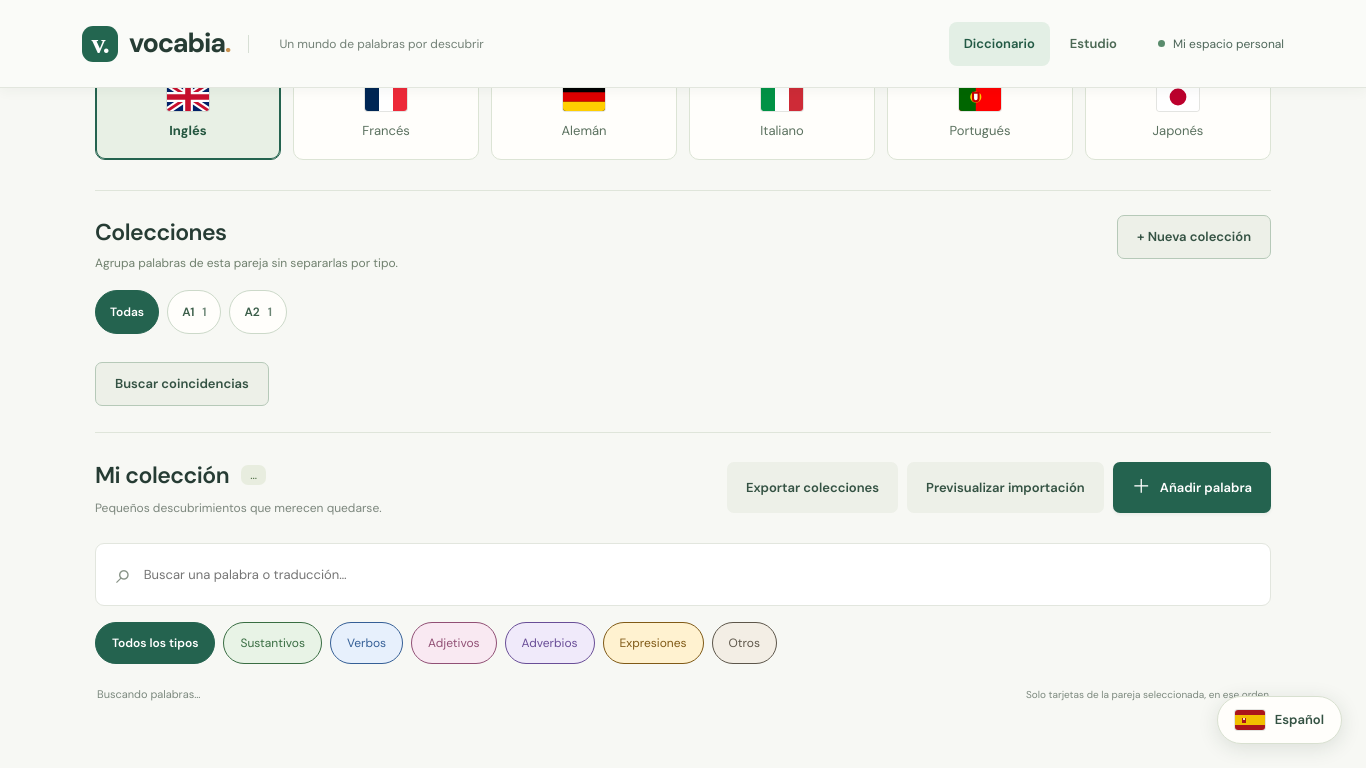
Scenario: Colección de palabras › muestra coincidencias de A1 y A2 con sus ejemplos sin modificar tarjetas
(page scrolled)
What coordinates should you click on to do the following:
click the button "Buscar coincidencias"
I would click on:
 (182, 384)
Its box is [95,362,269,406].
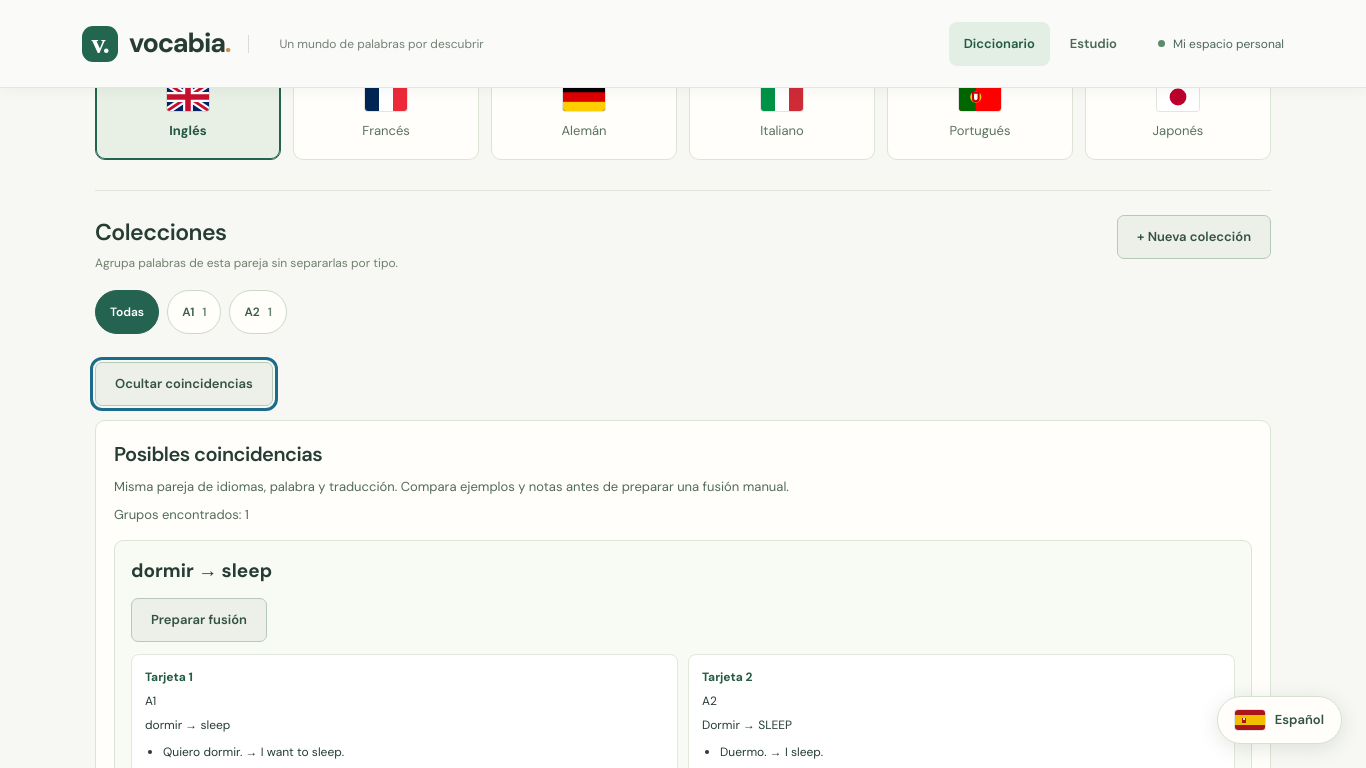
Expected: the text "Grupos encontrados: 1" is shown, [114,506,249,523]
Expected: the text "Quiero dormir." is shown, [163,744,242,760]
Expected: the text "Duermo." is shown, [720,744,767,760]
